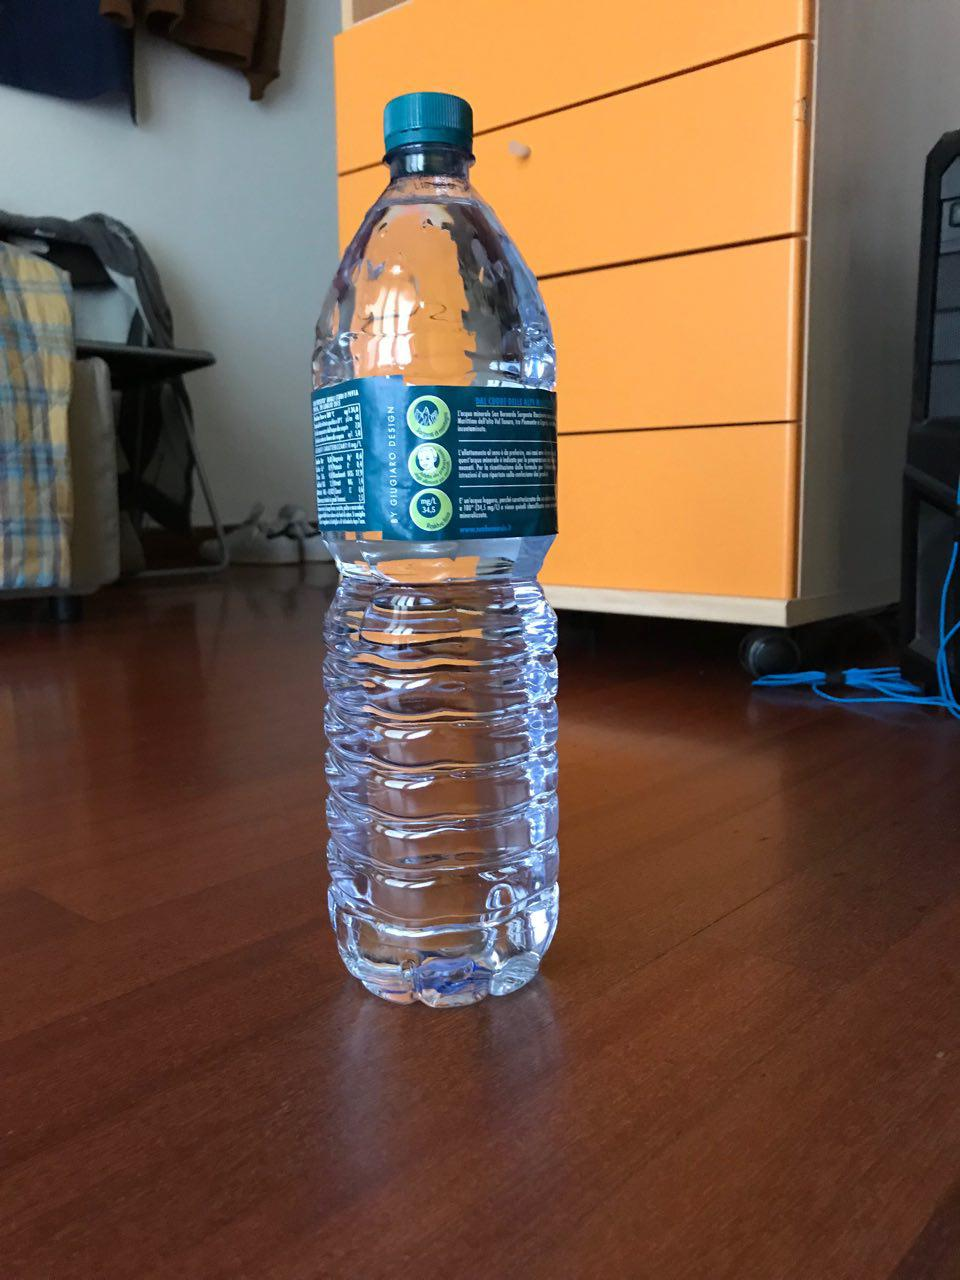san_bernardo: (308, 90, 561, 1011)
